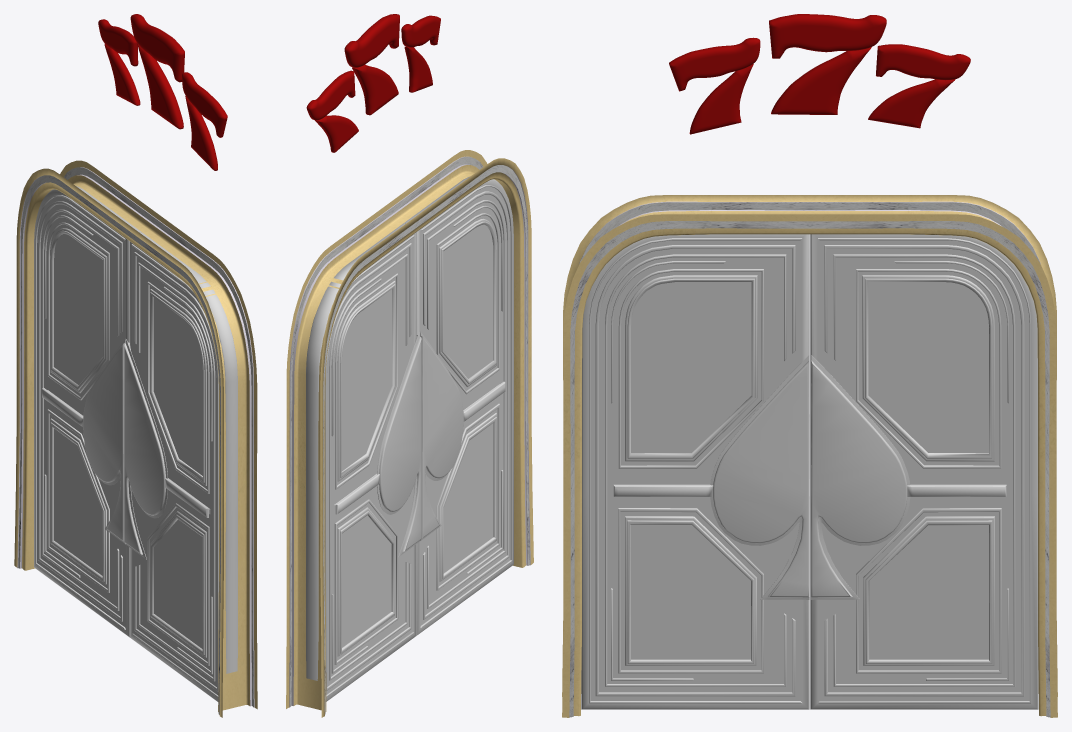
The model's file is doorMiddle.fbx.
The picture shows the model from 3 angles, left to right: view 1: azimuth 30°, elevation 25°; view 2: azimuth 150°, elevation 25°; view 3: azimuth 270°, elevation 25°; orthographic projection. The views are drawn at different scales.
Parts seen in each view (by area): view 1: Door_NexusArea_L, Door_NexusArea_R, AvatarLobbyWall.003, Door_NexusArea_L.002, Door_NexusArea_R.002, GameObject777, GameObject777.001, GameObject777.002, Door_NexusArea_L.001, Door_NexusArea_R.001; view 2: Door_NexusArea_R, Door_NexusArea_L, AvatarLobbyWall.003, Door_NexusArea_R.002, Door_NexusArea_L.002, GameObject777, GameObject777.002, GameObject777.001, Door_NexusArea_R.001, Door_NexusArea_L.001; view 3: Door_NexusArea_R, Door_NexusArea_L, AvatarLobbyWall.003, Door_NexusArea_L.002, Door_NexusArea_R.002, GameObject777, GameObject777.001, GameObject777.002, Door_NexusArea_L.001, Door_NexusArea_R.001.
Part boxes in pixels (bbox=[...]): Door_NexusArea_L: bbox=[130, 232, 237, 701]; Door_NexusArea_R: bbox=[34, 185, 141, 637]; AvatarLobbyWall.003: bbox=[14, 160, 257, 717]; Door_NexusArea_L.002: bbox=[124, 339, 167, 559]; Door_NexusArea_R.002: bbox=[83, 338, 128, 544]; GameObject777: bbox=[130, 14, 184, 129]; GameObject777.001: bbox=[182, 72, 227, 170]; GameObject777.002: bbox=[98, 19, 140, 105]; Door_NexusArea_L.001: bbox=[165, 478, 208, 517]; Door_NexusArea_R.001: bbox=[42, 387, 83, 426]; Door_NexusArea_R: bbox=[306, 223, 415, 701]; Door_NexusArea_L: bbox=[404, 176, 513, 635]; AvatarLobbyWall.003: bbox=[286, 150, 533, 717]; Door_NexusArea_R.002: bbox=[377, 332, 421, 557]; Door_NexusArea_L.002: bbox=[416, 331, 463, 540]; GameObject777: bbox=[344, 14, 399, 115]; GameObject777.002: bbox=[306, 70, 358, 152]; GameObject777.001: bbox=[401, 15, 440, 92]; Door_NexusArea_R.001: bbox=[335, 474, 379, 514]; Door_NexusArea_L.001: bbox=[463, 381, 505, 421]; Door_NexusArea_R: bbox=[810, 234, 1038, 709]; Door_NexusArea_L: bbox=[581, 234, 809, 709]; AvatarLobbyWall.003: bbox=[562, 195, 1057, 717]; Door_NexusArea_L.002: bbox=[710, 355, 809, 599]; Door_NexusArea_R.002: bbox=[811, 355, 910, 599]; GameObject777: bbox=[769, 14, 886, 114]; GameObject777.001: bbox=[669, 37, 760, 134]; GameObject777.002: bbox=[868, 44, 970, 128]; Door_NexusArea_L.001: bbox=[613, 484, 713, 496]; Door_NexusArea_R.001: bbox=[907, 484, 1006, 496].
Size of the model in its own units: 49.13 by 527 by 334.
6 materials, 2 textured.
